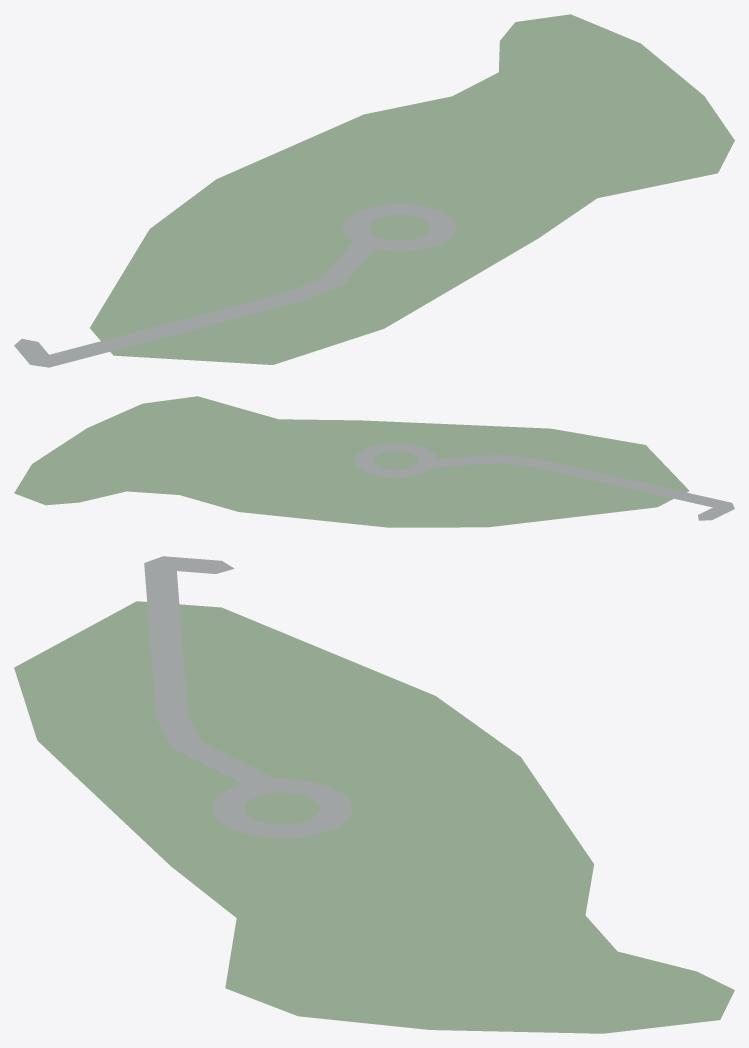
Rendered from -22_1-known-coarse.glb.
The picture shows the model from 3 angles, top to bottom: view 1: azimuth 30°, elevation 25°; view 2: azimuth 150°, elevation 25°; view 3: azimuth 270°, elevation 25°; orthographic projection. The views are drawn at different scales.
Size of the model in its own units: 105 by 0.1 by 67.44.
